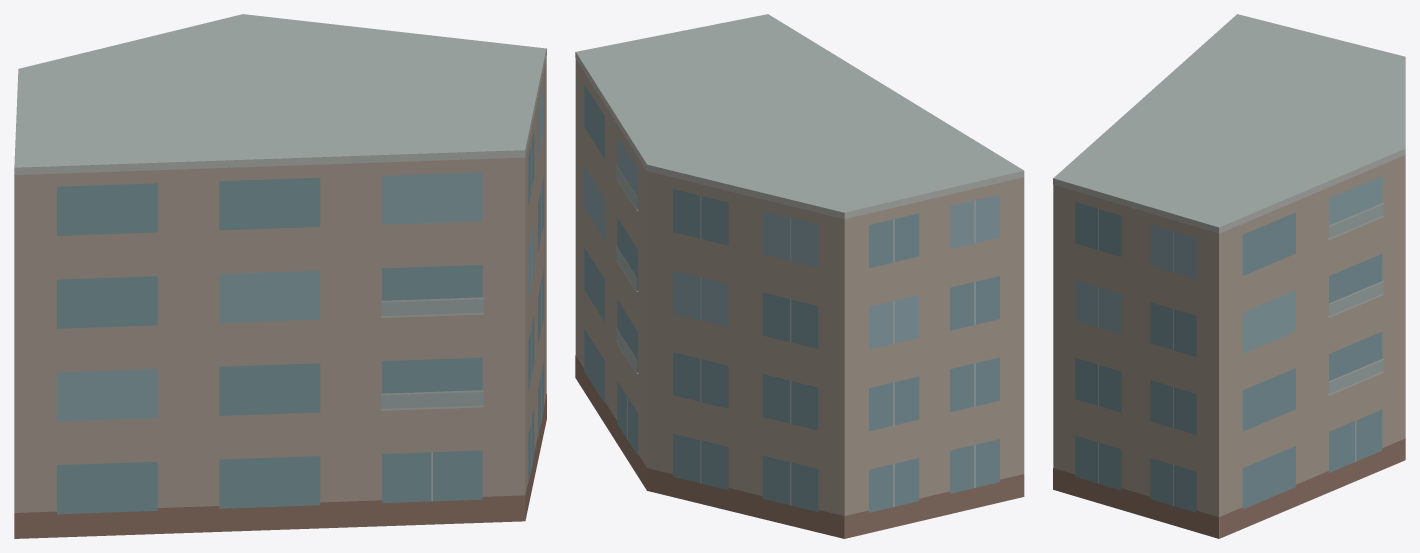
File: residential-994b52dc-3c70-4aee-bd43-aa10508221fc.glb
3 renders of one model, left to right at view 1: azimuth 30°, elevation 25°; view 2: azimuth 150°, elevation 25°; view 3: azimuth 270°, elevation 25°, orthographic. The views are drawn at different scales.
Visible parts, largest first — view 1: residential-994b52dc-3c70-4aee-bd43-aa10508221fc.tmp; view 2: residential-994b52dc-3c70-4aee-bd43-aa10508221fc.tmp; view 3: residential-994b52dc-3c70-4aee-bd43-aa10508221fc.tmp.
Part boxes in pixels (<box>): residential-994b52dc-3c70-4aee-bd43-aa10508221fc.tmp: <box>14,14,546,538</box>; residential-994b52dc-3c70-4aee-bd43-aa10508221fc.tmp: <box>575,14,1024,538</box>; residential-994b52dc-3c70-4aee-bd43-aa10508221fc.tmp: <box>1053,14,1405,538</box>.
Size of the model in its own units: 17.95 by 12.2 by 12.53.
